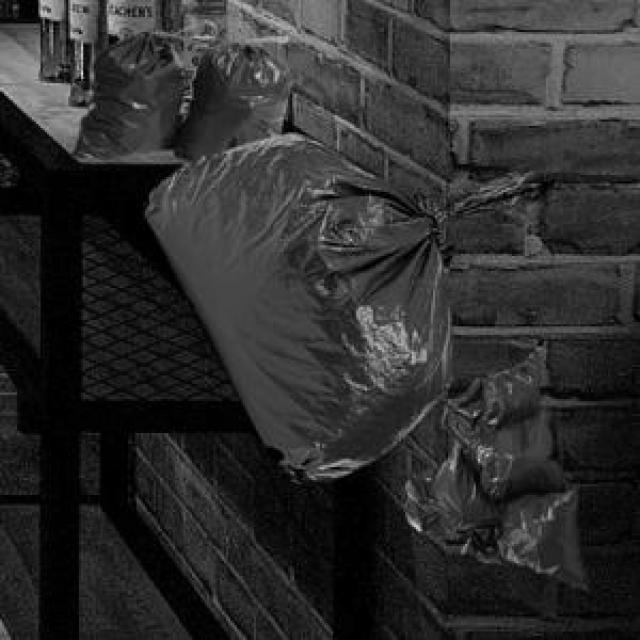miscellaneous trash: (141, 130, 555, 478), (403, 350, 585, 587), (68, 28, 288, 158)
